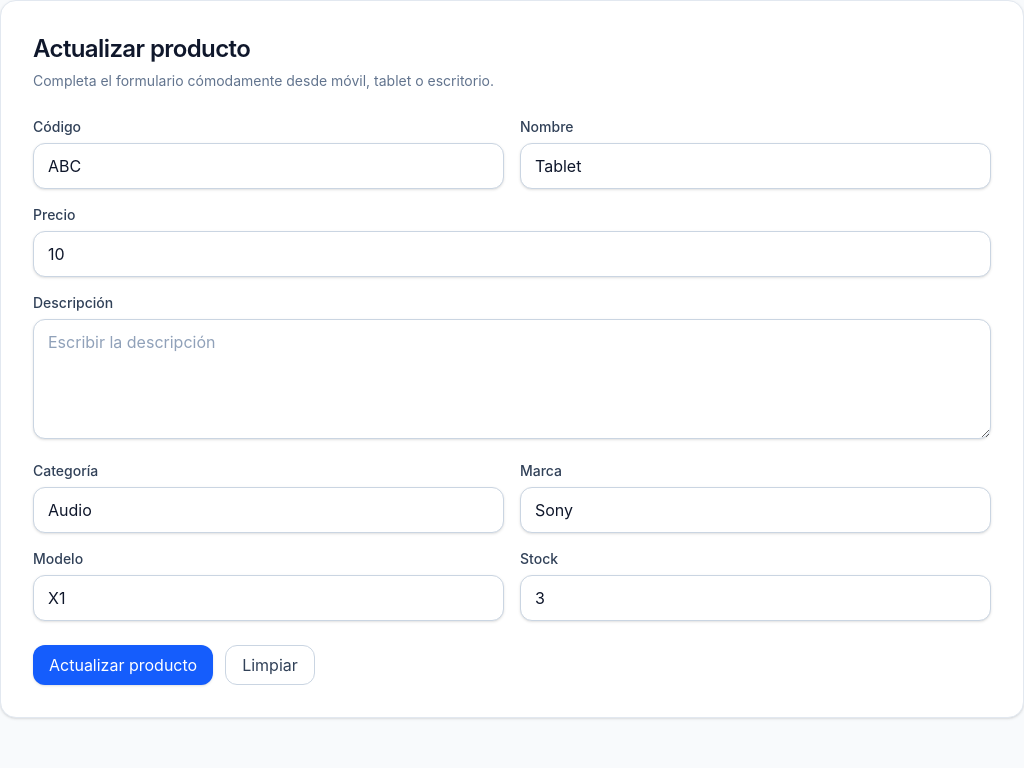
auth and page flows › updates a product when there is an id in the route
This screenshot has width=1024, height=768.
Replace the text in the field labelled "Nombre" with "Laptop" at (756, 166), box top-left (520, 143), bottom-right (991, 189)
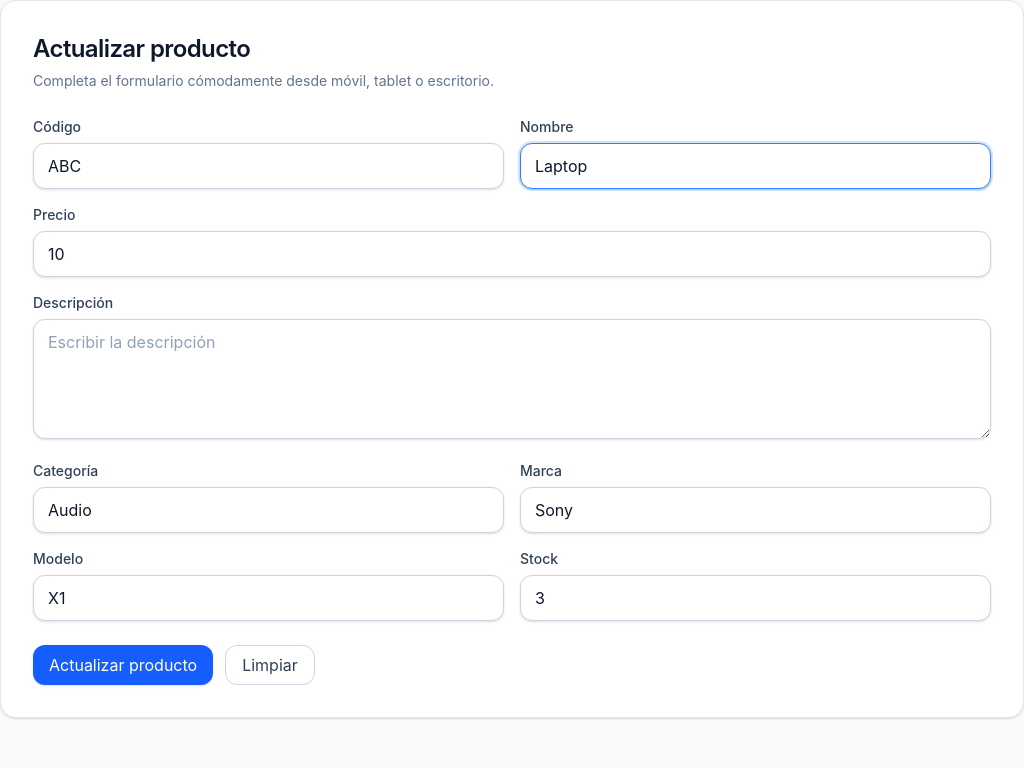
Click the button "Actualizar producto" at (123, 665), box top-left (33, 645), bottom-right (213, 685)
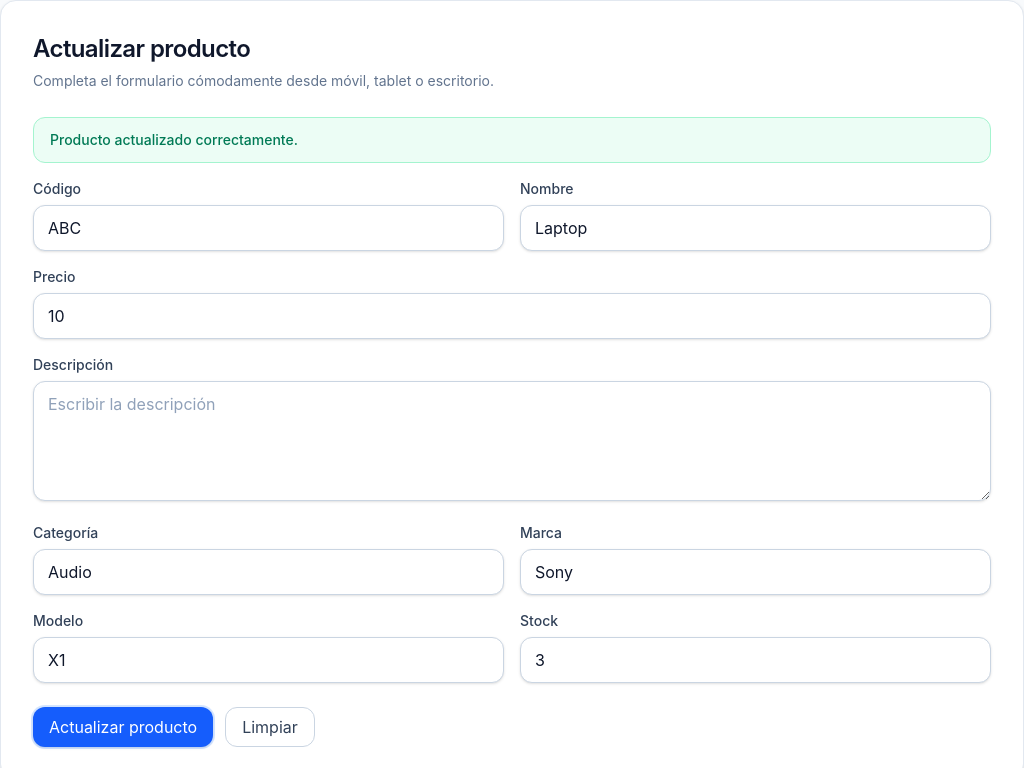
Check: the text "Producto actualizado correctamente." is shown, box top-left (33, 117), bottom-right (991, 163)
